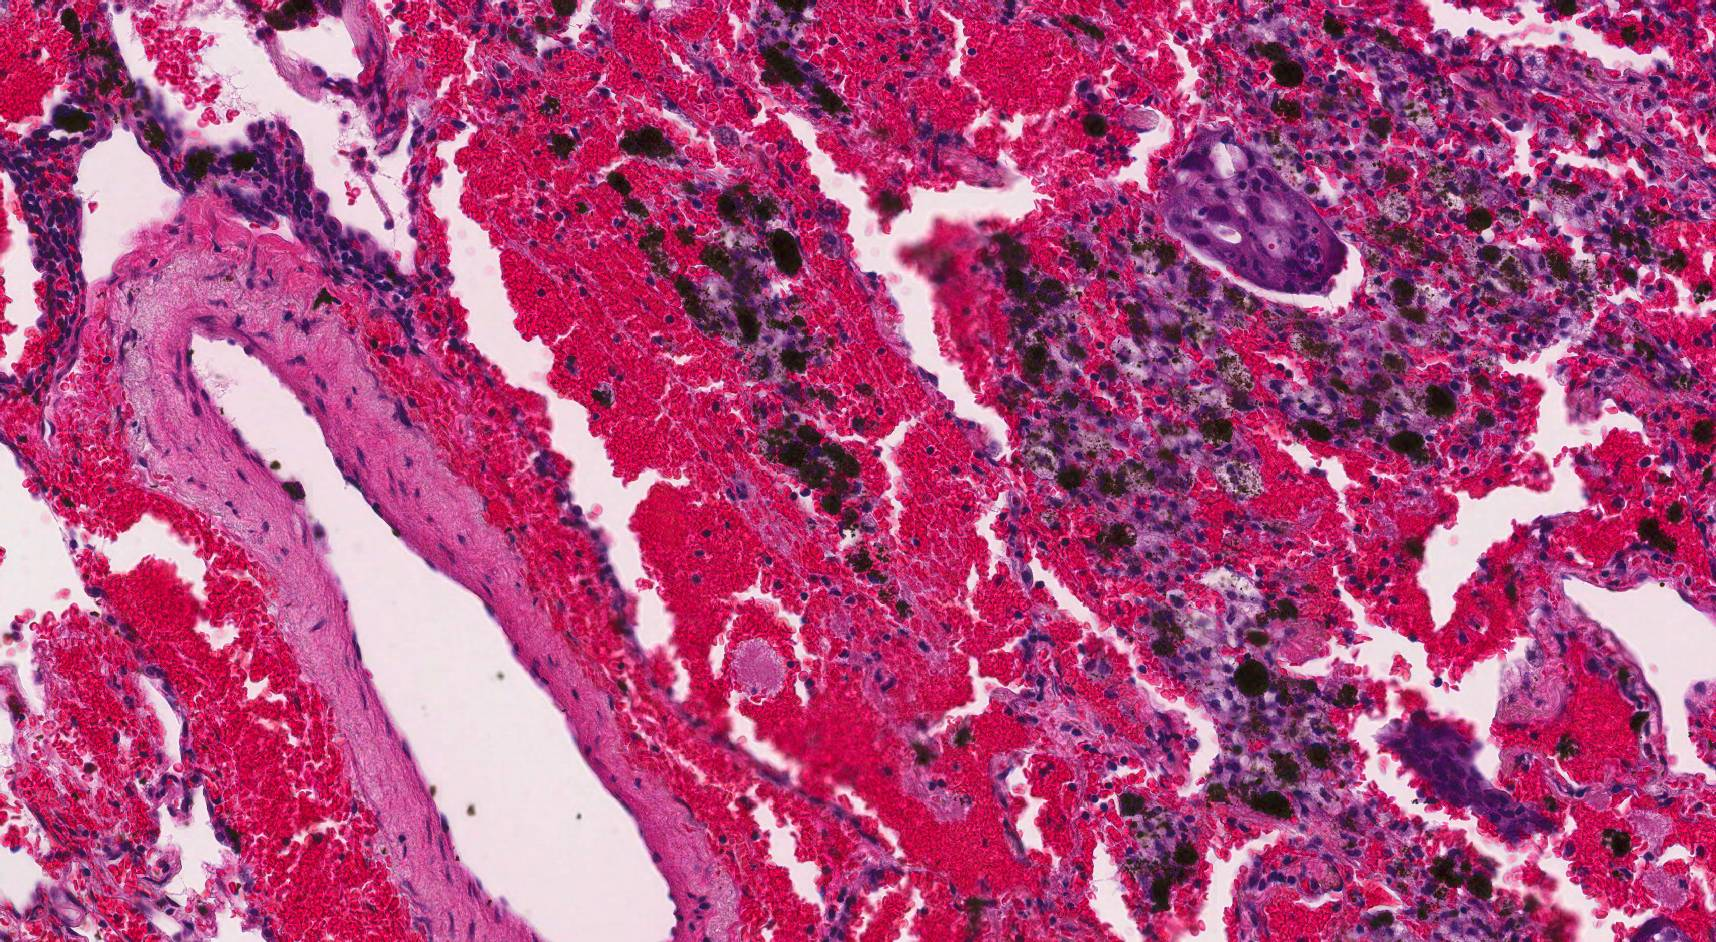stas: (1164, 121, 1346, 294), (1380, 707, 1555, 838)
